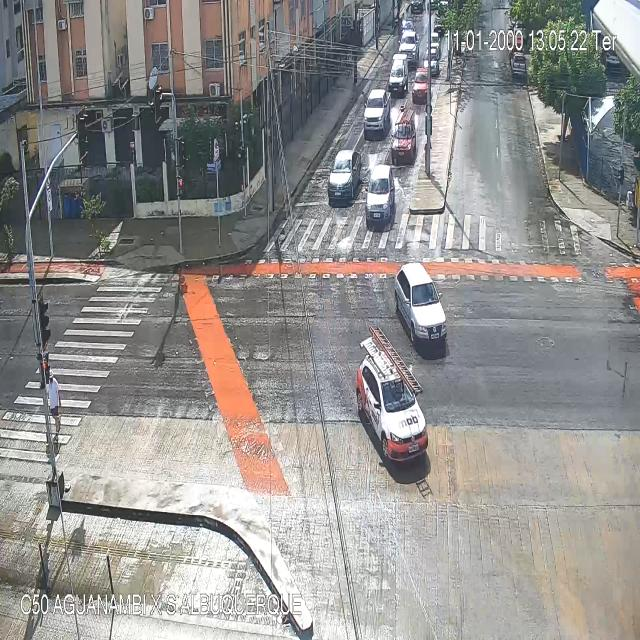Car: (357, 348, 431, 463), (393, 262, 447, 352), (365, 164, 394, 222), (328, 150, 362, 197), (391, 117, 417, 165), (365, 88, 391, 134), (388, 54, 407, 94), (398, 30, 419, 66), (412, 68, 432, 104), (399, 13, 421, 36), (423, 49, 439, 78), (511, 52, 527, 75), (426, 31, 441, 53), (410, 1, 423, 14)
